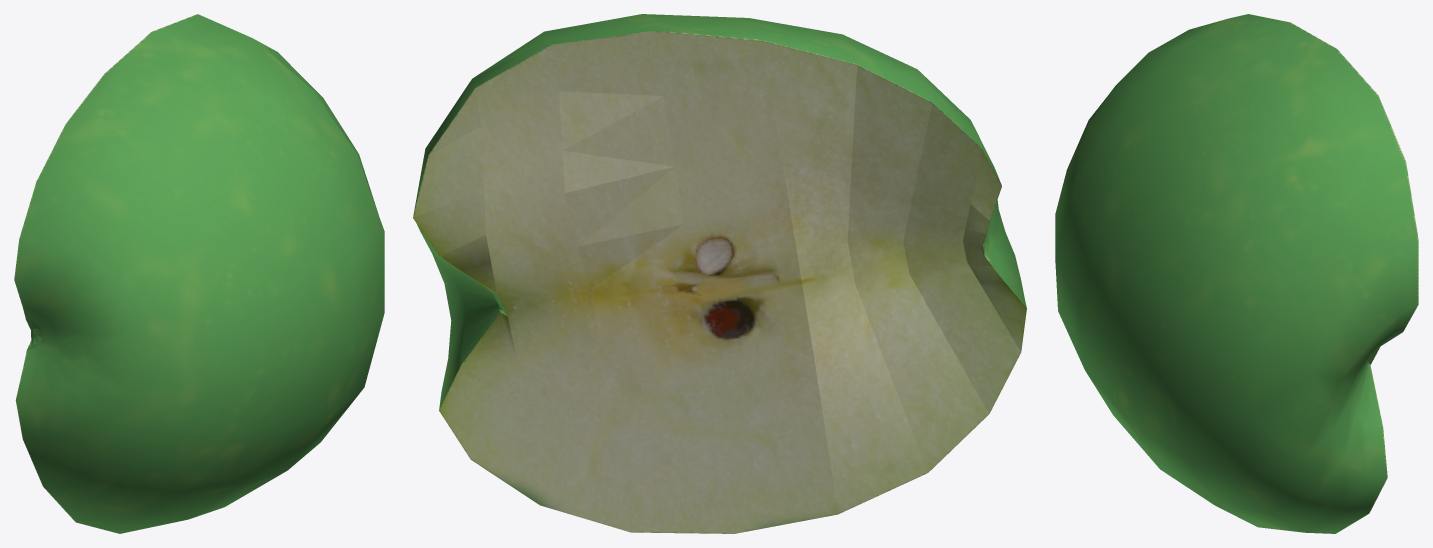
The model's file is G_Apple_Slice-01.FBX.
3 views of the same model, side by side, from view 1: azimuth 30°, elevation 25°; view 2: azimuth 150°, elevation 25°; view 3: azimuth 270°, elevation 25° (orthographic). The views are drawn at different scales.
Visible parts, largest first — view 1: Object001; view 2: Object001; view 3: Object001.
Part boxes in pixels (left/top/right/bottom): Object001: left=14, top=14, right=384, bottom=533; Object001: left=413, top=14, right=1026, bottom=533; Object001: left=1055, top=14, right=1418, bottom=533.
Size of the model in its own units: 68.97 by 70.44 by 50.3.
Materials: 1 (1 with a texture image).
